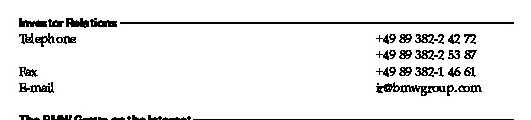table: (0, 0, 531, 120)
